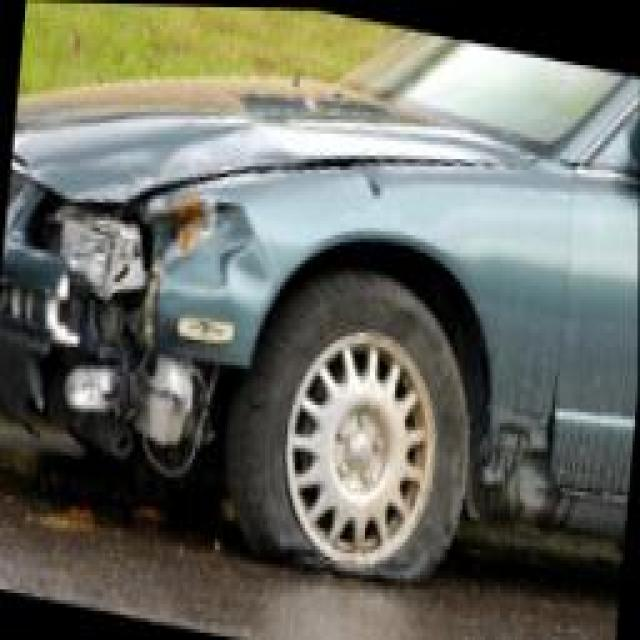Bumper: (0, 236, 248, 488)
Fender: (139, 161, 407, 359)
Light: (18, 180, 155, 270)
